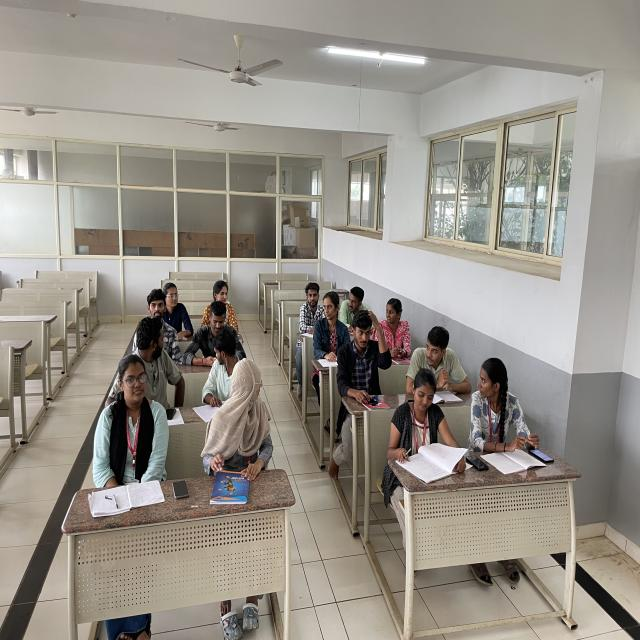Reading: (386, 364, 466, 486)
